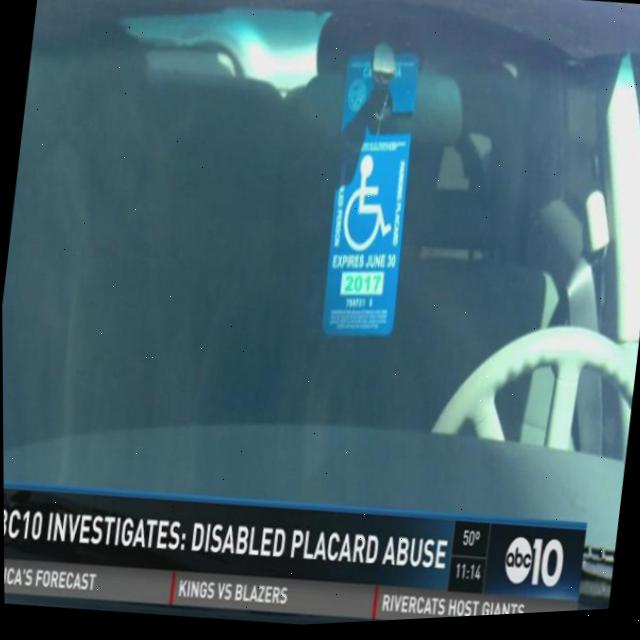symbol_of_access: (340, 154, 398, 259)
